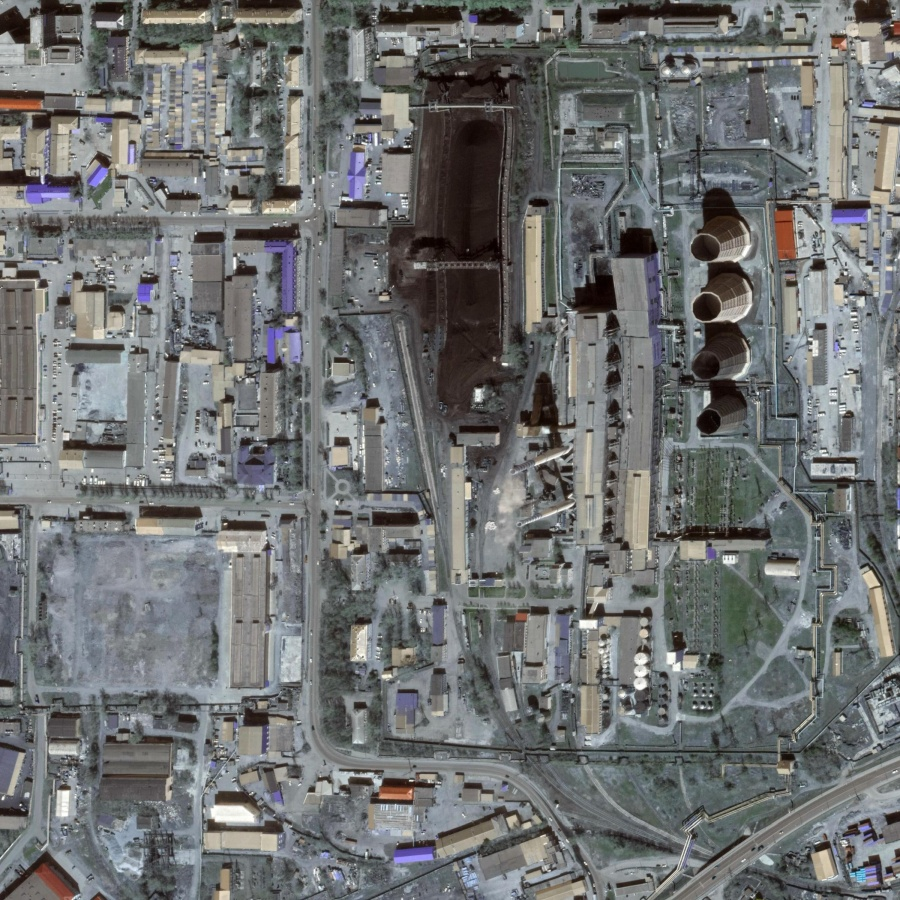PowerPlant: (375, 43, 785, 552)
